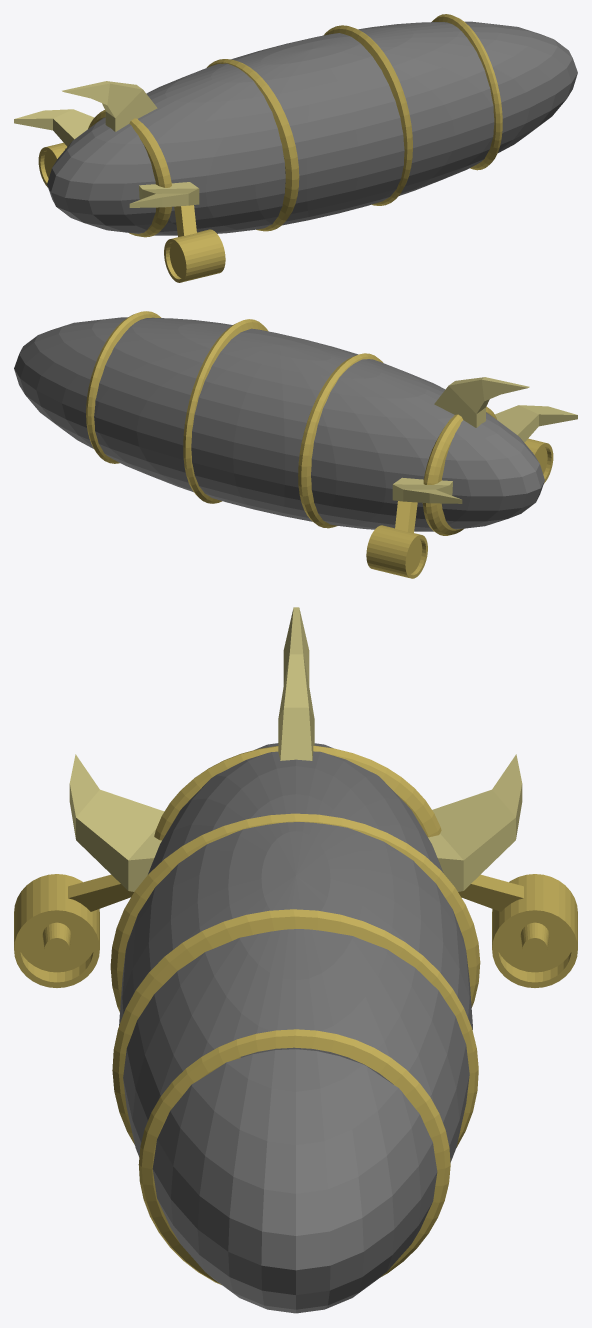
File: Balloon 1.fbx
3 views of the same model, one above another, from view 1: azimuth 30°, elevation 25°; view 2: azimuth 150°, elevation 25°; view 3: azimuth 270°, elevation 25° (orthographic). The views are drawn at different scales.
Visible parts, largest first — view 1: Cube.001; view 2: Cube.001; view 3: Cube.001.
Boxes of the visible parts, x1,y1,x2,y2 form: Cube.001: (14,14,577,282); Cube.001: (14,311,577,578); Cube.001: (14,607,577,1313).
Size of the model in its own units: 24485 by 8114 by 11996.
